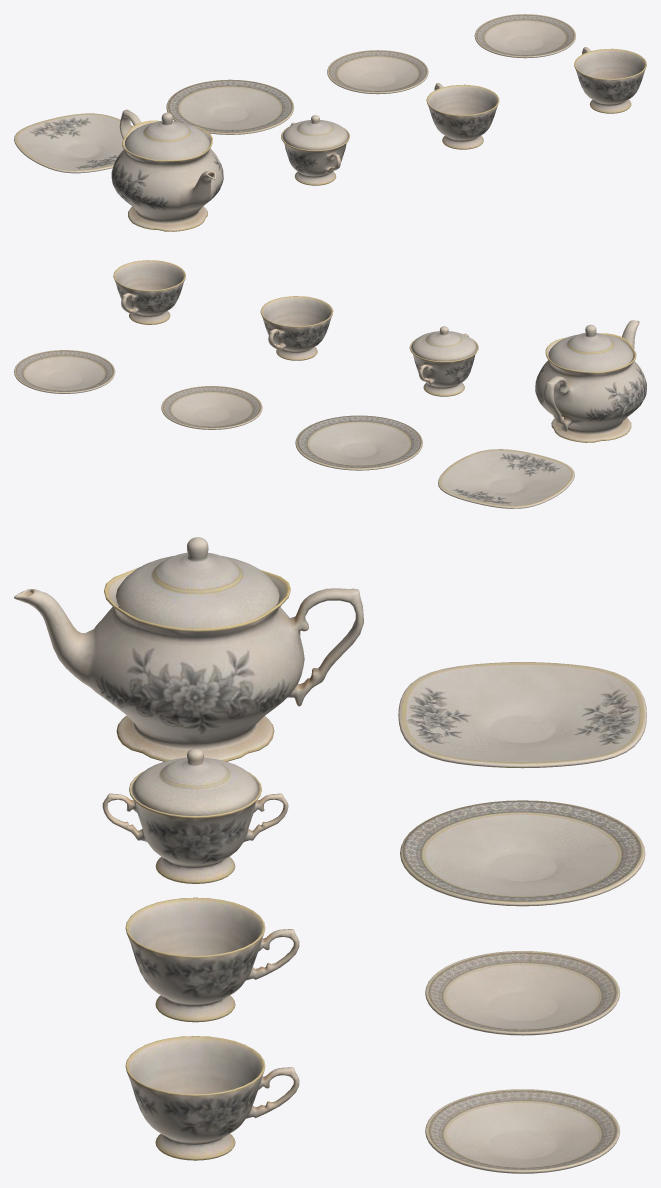
The model's file is tea-set.glb.
The picture shows the model from 3 angles, top to bottom: view 1: azimuth 30°, elevation 25°; view 2: azimuth 150°, elevation 25°; view 3: azimuth 270°, elevation 25°; orthographic projection. The views are drawn at different scales.
Visible parts, largest first — view 1: tea_set_01_teapot_01, tea_set_01_plate_large_circular_03, tea_set_01_plate_large_square_01, tea_set_01_cup_small_01, tea_set_01_cup_small_02, tea_set_01_saucer_circular_03, tea_set_01_saucer_circular_04, tea_set_01_teapot_01_lid, tea_set_01_sugar_cup_01, tea_set_01_sugar_cup_01_lid; view 2: tea_set_01_teapot_01, tea_set_01_plate_large_square_01, tea_set_01_plate_large_circular_03, tea_set_01_cup_small_01, tea_set_01_cup_small_02, tea_set_01_saucer_circular_04, tea_set_01_saucer_circular_03, tea_set_01_teapot_01_lid, tea_set_01_sugar_cup_01, tea_set_01_sugar_cup_01_lid; view 3: tea_set_01_teapot_01, tea_set_01_plate_large_square_01, tea_set_01_plate_large_circular_03, tea_set_01_cup_small_01, tea_set_01_cup_small_02, tea_set_01_saucer_circular_03, tea_set_01_saucer_circular_04, tea_set_01_teapot_01_lid, tea_set_01_sugar_cup_01, tea_set_01_sugar_cup_01_lid.
Boxes of the visible parts, <box> form: tea_set_01_teapot_01: <box>111,109,223,231</box>; tea_set_01_plate_large_circular_03: <box>166,79,294,134</box>; tea_set_01_plate_large_square_01: <box>14,113,133,173</box>; tea_set_01_cup_small_01: <box>426,83,499,149</box>; tea_set_01_cup_small_02: <box>574,47,646,113</box>; tea_set_01_saucer_circular_03: <box>474,14,575,58</box>; tea_set_01_saucer_circular_04: <box>327,50,428,94</box>; tea_set_01_teapot_01_lid: <box>125,112,209,160</box>; tea_set_01_sugar_cup_01: <box>281,122,349,185</box>; tea_set_01_sugar_cup_01_lid: <box>282,115,348,150</box>; tea_set_01_teapot_01: <box>535,320,646,442</box>; tea_set_01_plate_large_square_01: <box>438,449,574,508</box>; tea_set_01_plate_large_circular_03: <box>295,415,422,470</box>; tea_set_01_cup_small_01: <box>260,296,333,360</box>; tea_set_01_cup_small_02: <box>113,260,185,324</box>; tea_set_01_saucer_circular_04: <box>161,386,262,429</box>; tea_set_01_saucer_circular_03: <box>14,350,115,393</box>; tea_set_01_teapot_01_lid: <box>548,324,633,371</box>; tea_set_01_sugar_cup_01: <box>409,333,478,396</box>; tea_set_01_sugar_cup_01_lid: <box>411,326,477,361</box>; tea_set_01_teapot_01: <box>14,567,363,761</box>; tea_set_01_plate_large_square_01: <box>398,662,646,768</box>; tea_set_01_plate_large_circular_03: <box>400,800,645,906</box>; tea_set_01_cup_small_01: <box>125,897,299,1022</box>; tea_set_01_cup_small_02: <box>125,1036,299,1160</box>; tea_set_01_saucer_circular_03: <box>425,1089,620,1173</box>; tea_set_01_saucer_circular_04: <box>425,951,619,1035</box>; tea_set_01_teapot_01_lid: <box>115,537,279,628</box>; tea_set_01_sugar_cup_01: <box>102,771,288,883</box>; tea_set_01_sugar_cup_01_lid: <box>131,748,259,815</box>.
Bounding box in the file's own units: 0.9185 × 0.165 × 0.4836.
1 material, 1 textured.
